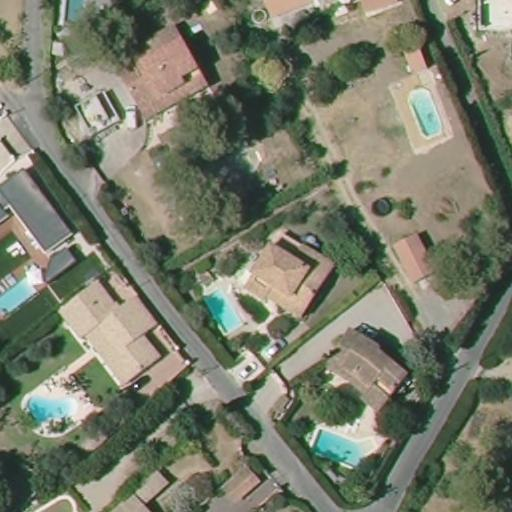pool: (309, 421, 377, 475), (199, 283, 247, 339), (405, 85, 450, 141), (17, 387, 78, 425), (0, 274, 35, 318), (61, 0, 93, 31)
